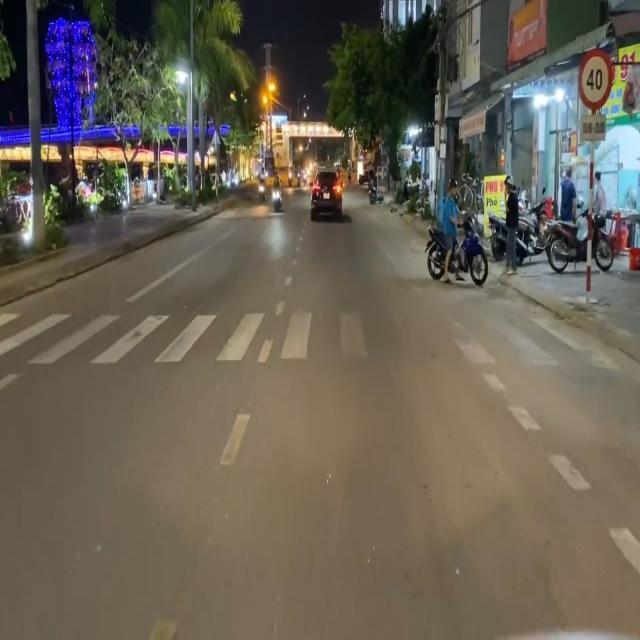walk-crossing: (0, 308, 615, 373)
